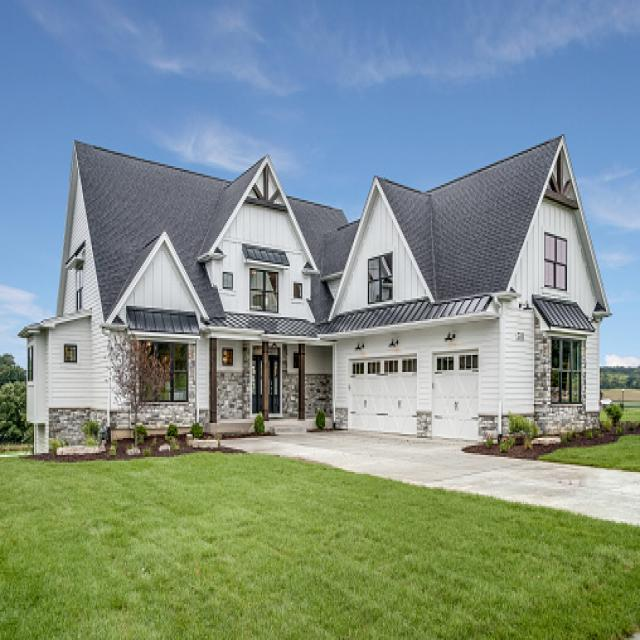Normal_building: (15, 121, 330, 438), (329, 131, 622, 460)
